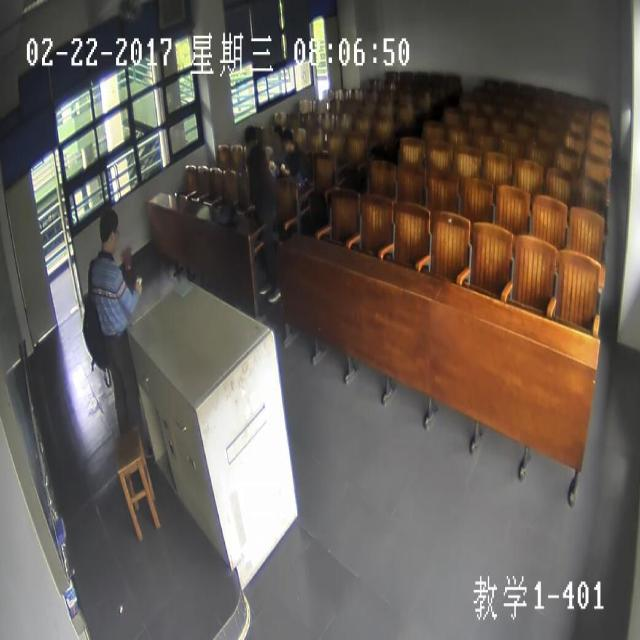no_helmet: (95, 203, 118, 248), (242, 122, 257, 148), (280, 126, 294, 153), (271, 122, 282, 146)
